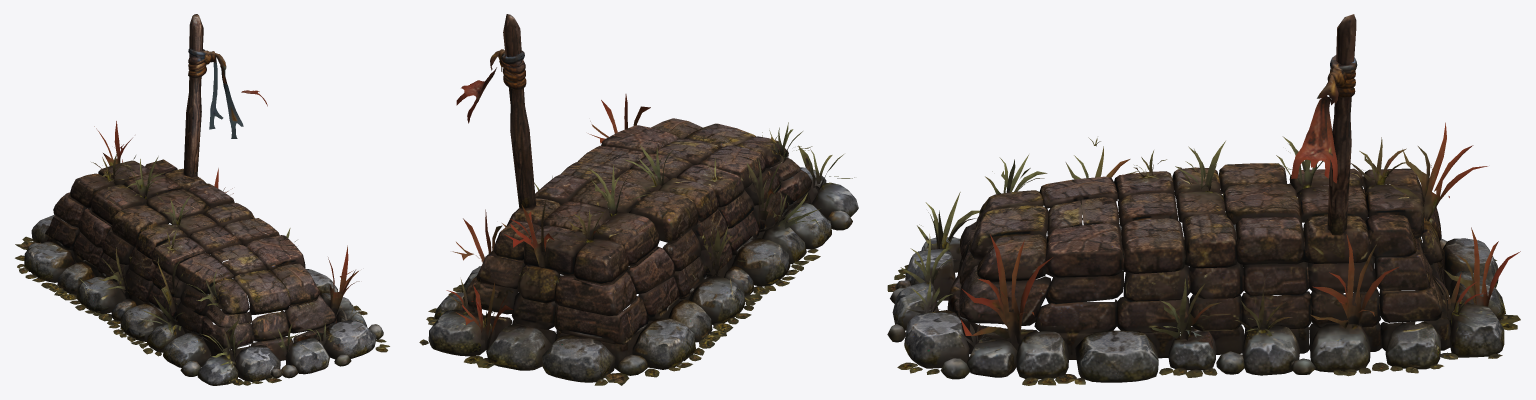
Rendered from act1_kit_v1_bog_grave.glb.
3 renders of one model, left to right at view 1: azimuth 30°, elevation 25°; view 2: azimuth 150°, elevation 25°; view 3: azimuth 270°, elevation 25°, orthographic. The views are drawn at different scales.
Parts seen in each view (by area): view 1: act1_kit_v1_bog_grave; view 2: act1_kit_v1_bog_grave; view 3: act1_kit_v1_bog_grave.
Boxes of the visible parts, x1,y1,x2,y2 form: act1_kit_v1_bog_grave: (15, 14, 389, 385); act1_kit_v1_bog_grave: (419, 14, 858, 385); act1_kit_v1_bog_grave: (887, 14, 1520, 385).
Size of the model in its own units: 0.5779 by 0.5844 by 1.
1 material, 1 textured.
